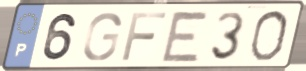3: (208, 10, 247, 62)
6: (41, 11, 79, 63)
E: (159, 9, 212, 64)
F: (119, 10, 169, 63)
G: (81, 10, 124, 63)
O: (247, 8, 291, 63)
